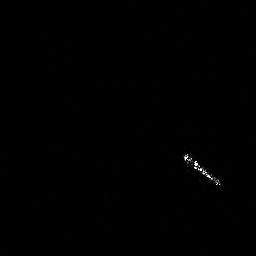ship: (182, 151, 222, 187)
